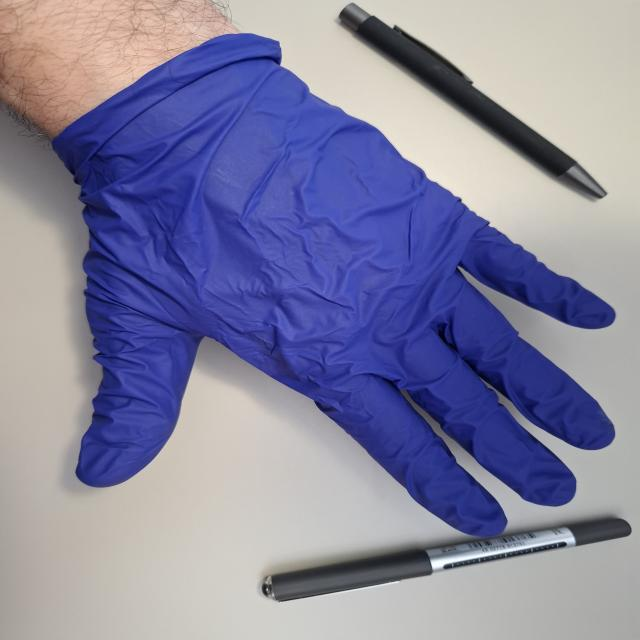glove_on: (59, 41, 622, 539)
